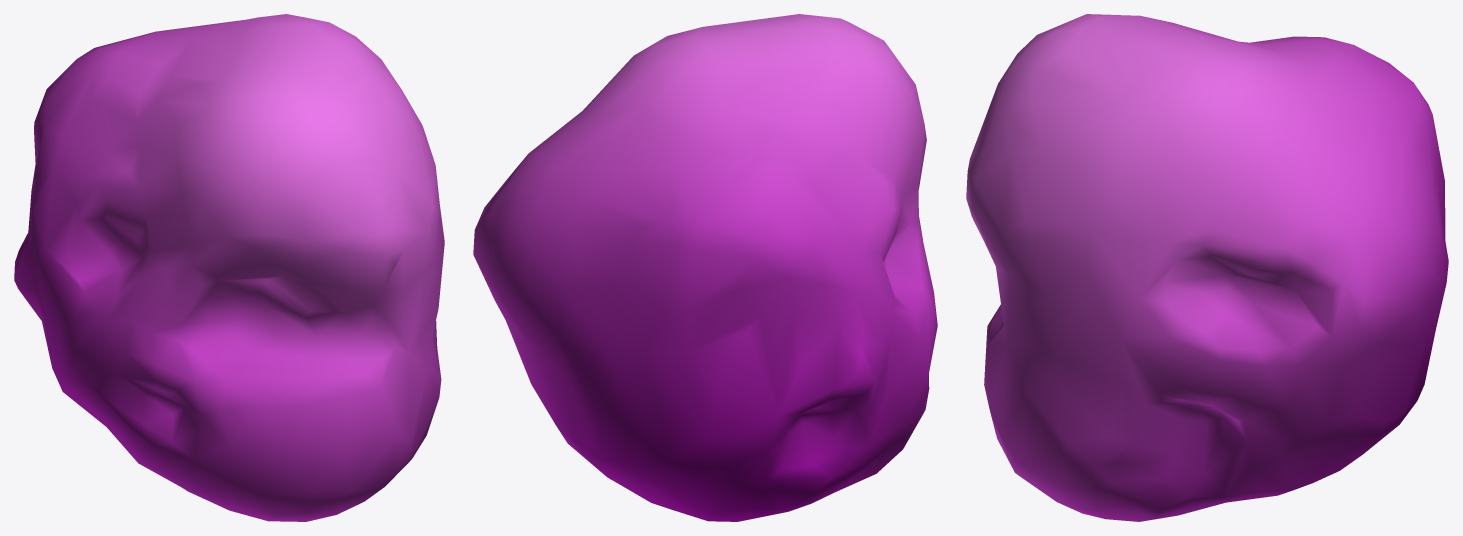
The model's file is Basalt.fbx.
The picture shows the model from 3 angles, left to right: view 1: azimuth 30°, elevation 25°; view 2: azimuth 150°, elevation 25°; view 3: azimuth 270°, elevation 25°; orthographic projection. The views are drawn at different scales.
Parts seen in each view (by area): view 1: BASALT.001; view 2: BASALT.001; view 3: BASALT.001.
Boxes of the visible parts, left/top/right/bottom form: BASALT.001: left=14, top=14, right=444, bottom=521; BASALT.001: left=473, top=14, right=937, bottom=521; BASALT.001: left=966, top=14, right=1448, bottom=521.
Size of the model in its own units: 138 by 157 by 147.
1 material, 1 textured.
